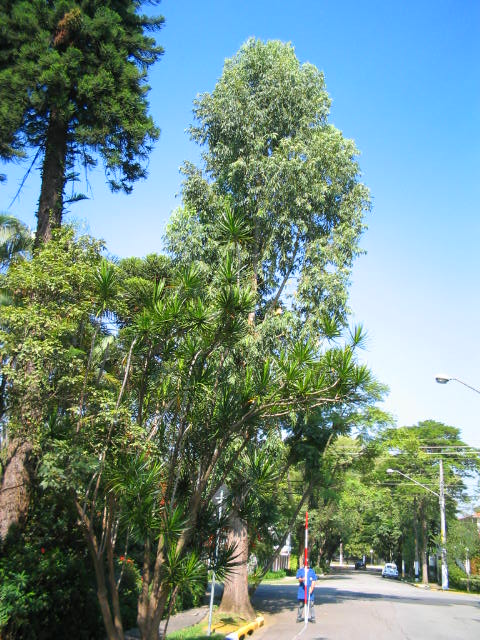crown: (169, 37, 378, 317)
stem: (215, 499, 266, 618)
stick: (299, 509, 312, 624)
tree: (166, 35, 381, 622)
